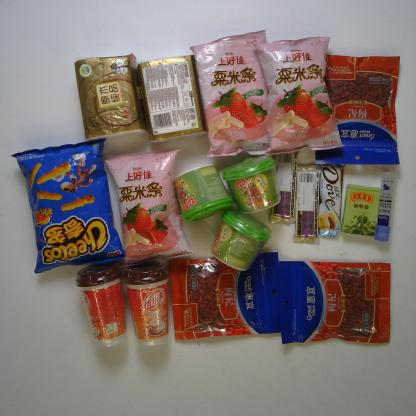Candy: (339, 181, 380, 238)
Chocolate: (264, 140, 303, 226), (312, 154, 346, 238), (292, 160, 324, 246)
Dried Fruit: (167, 248, 291, 342), (264, 257, 391, 346), (308, 52, 402, 168)
Instant Drink: (73, 262, 130, 347), (120, 253, 171, 348), (209, 208, 273, 274), (221, 151, 282, 216), (172, 162, 234, 224)
Puffed Food: (10, 136, 126, 276), (247, 31, 347, 155), (190, 30, 284, 160), (103, 145, 197, 270)
Stationery: (374, 171, 400, 244)
Tissue: (71, 54, 149, 143), (137, 52, 210, 146)
